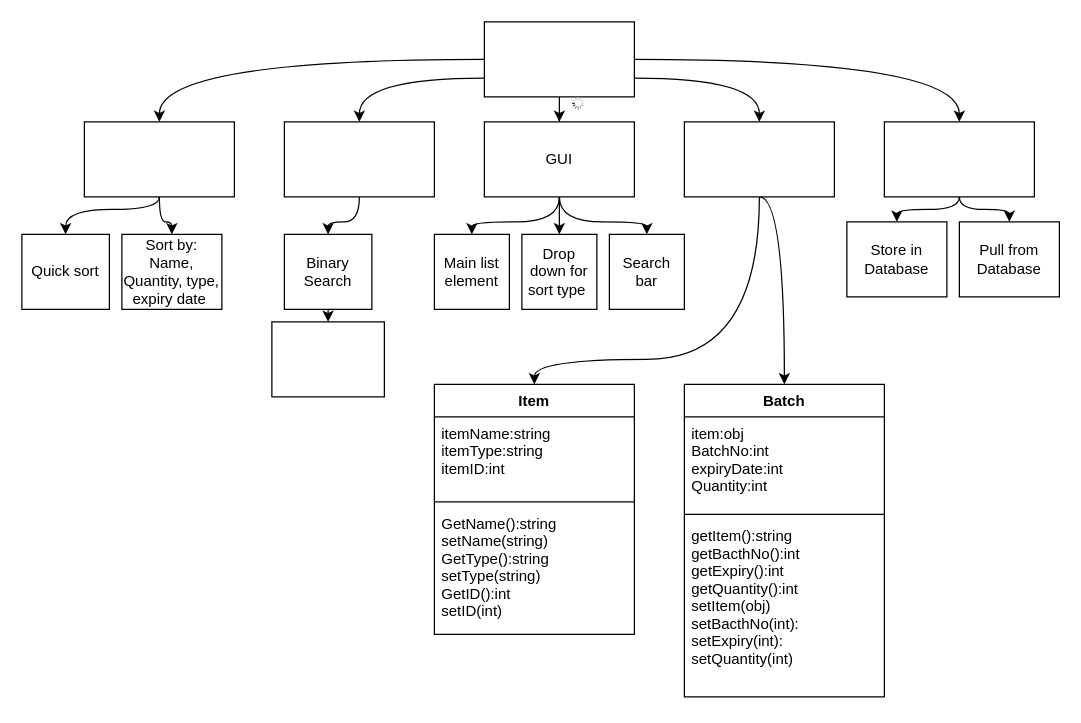
The diagram is 1081 pixels wide and 723 high, and some of its shapes have lost their labels. Here are the shapes that lost their labels. From the top down, the box of each, then its label:
(483, 21, 634, 97): Inventory Menu I.1
(83, 121, 234, 197): Sort
(283, 121, 434, 197): Search
(683, 121, 834, 197): Items
(883, 121, 1034, 197): Database
(271, 321, 384, 397): PreReq: sorted Alpahabetically
